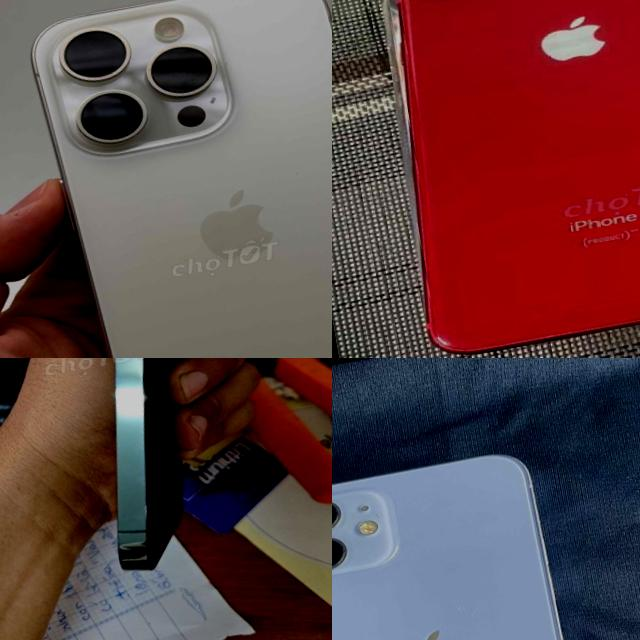scratch: (442, 242, 484, 280), (402, 0, 448, 9)
